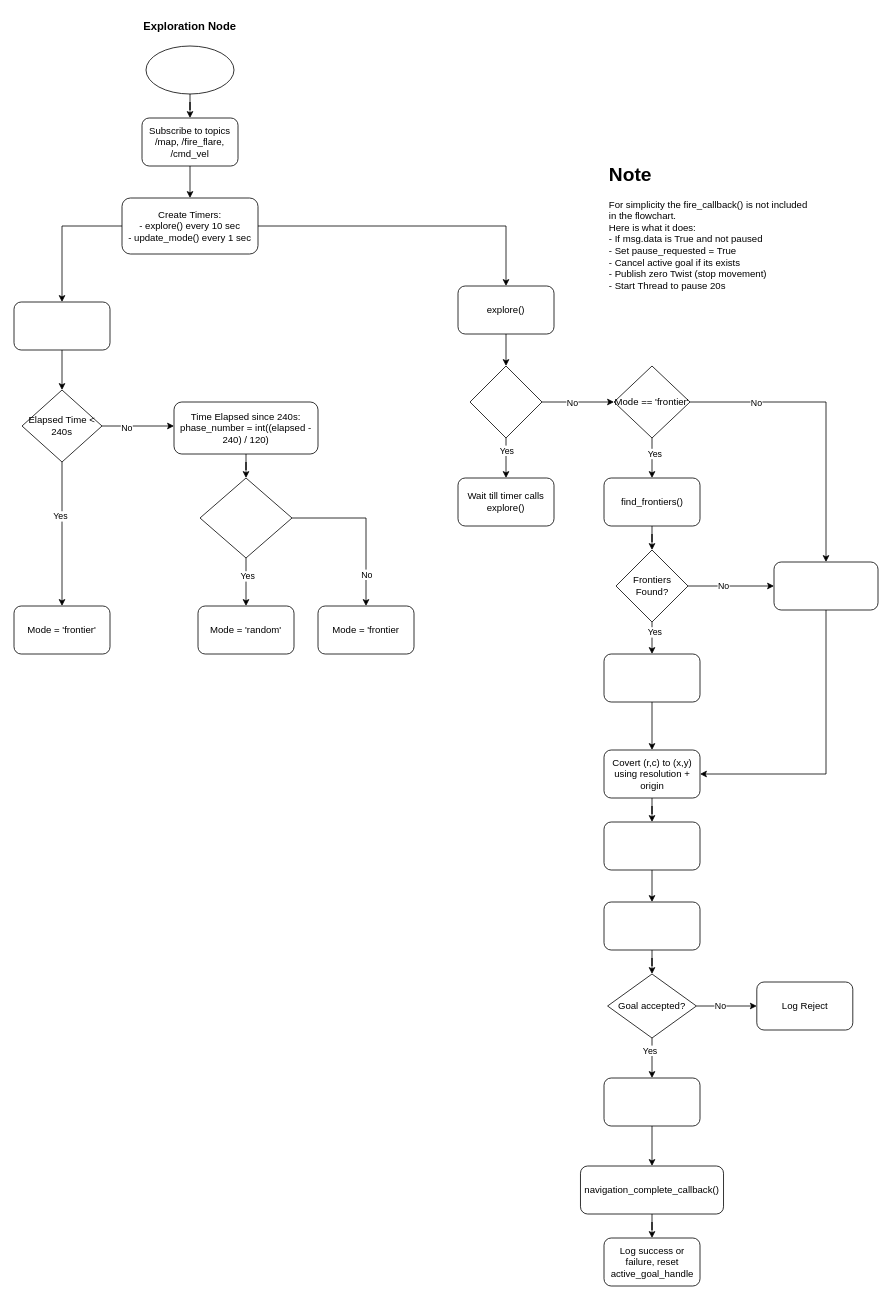
This 892x1300 diagram has some shape labels left out. Each missing label, with the centre of its shape:
"Call navigate_to(x,y)" goes at (651,845).
"call update_mode()" goes at (61,325).
"choose_random_point()" goes at (825,585).
"If map is None" goes at (505,401).
"phase_number % 2 == 0" goes at (245,517).
"Pick random frontier" goes at (651,677).
"Send goal to NavigateToPose" goes at (651,925).
"Start" goes at (189,69).
"Wait for result" goes at (651,1101).
